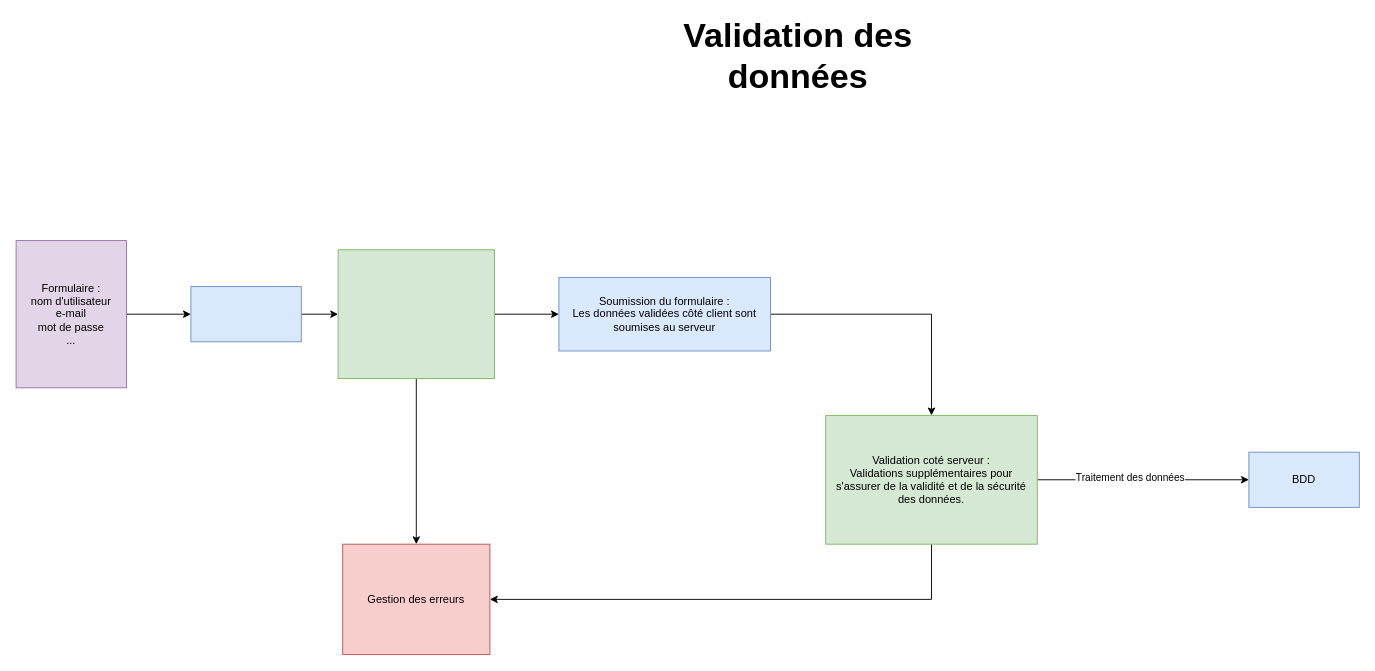
The diagram is 1375 pixels wide and 671 high, and some of its shapes have lost their labels. Each missing label, with the box of its shape:
Saisie utilisateur: (190, 286, 301, 342)
Validation coté client : Vérification des formats, des longueurs, etc.: (337, 249, 494, 379)
